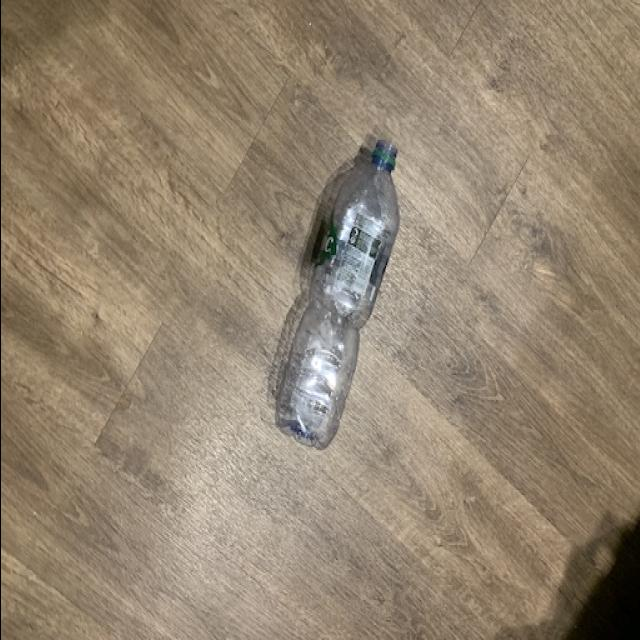PET: (272, 136, 402, 452)
